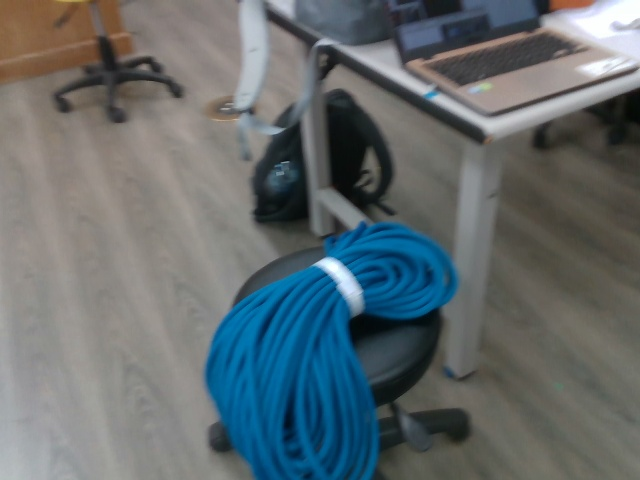rope: (202, 213, 463, 480)
